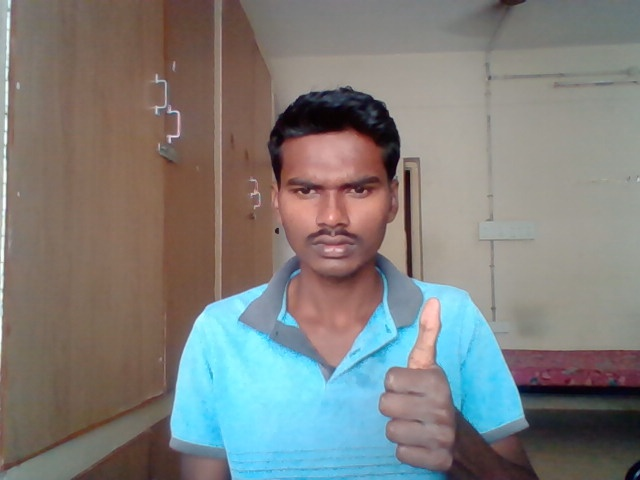Yes: (378, 291, 462, 475)
